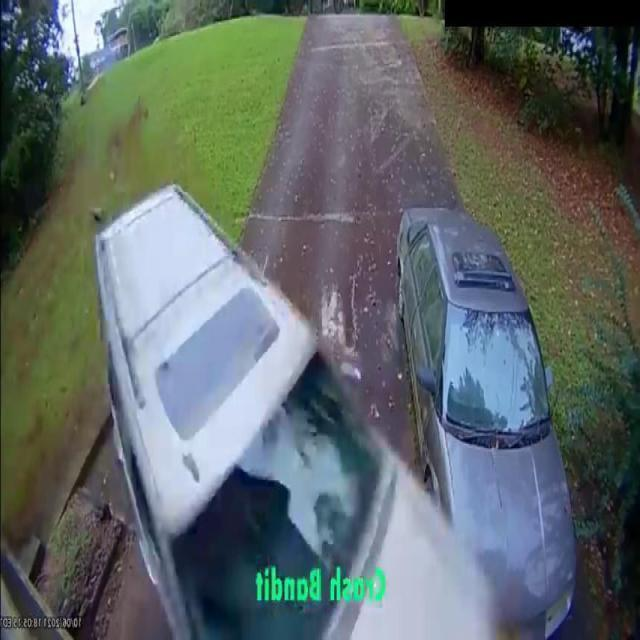accident: (89, 173, 588, 640)
